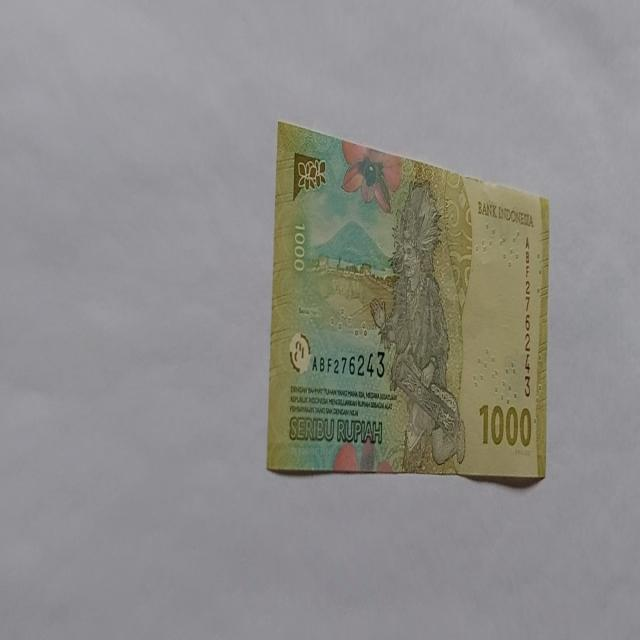seribu rupiah kertas: (266, 119, 550, 481)
